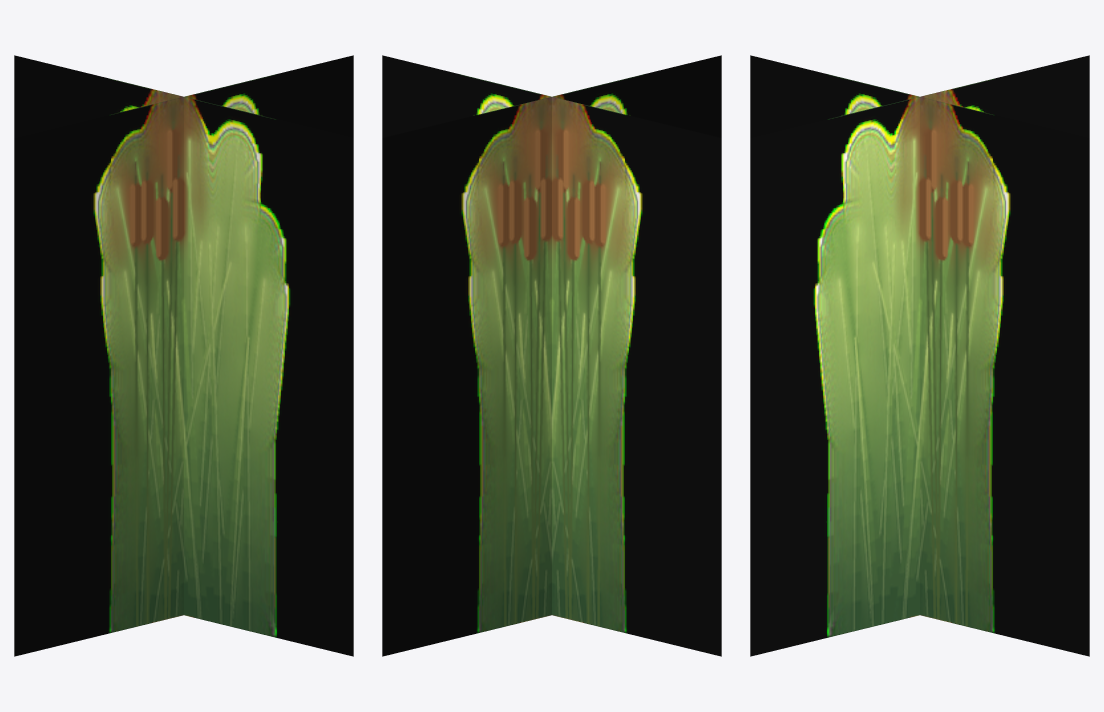
The model's file is reeds.glb.
3 views of the same model, side by side, from view 1: azimuth 30°, elevation 25°; view 2: azimuth 150°, elevation 25°; view 3: azimuth 270°, elevation 25° (orthographic).
Parts seen in each view (by area): view 1: reeds_mesh; view 2: reeds_mesh; view 3: reeds_mesh.
Part boxes in pixels (<box>): reeds_mesh: <box>14,55,353,656</box>; reeds_mesh: <box>382,55,721,656</box>; reeds_mesh: <box>750,55,1089,656</box>.
Bounding box in the file's own units: 1.3 × 1.9 × 1.13.
Materials: 1 (1 with a texture image).
